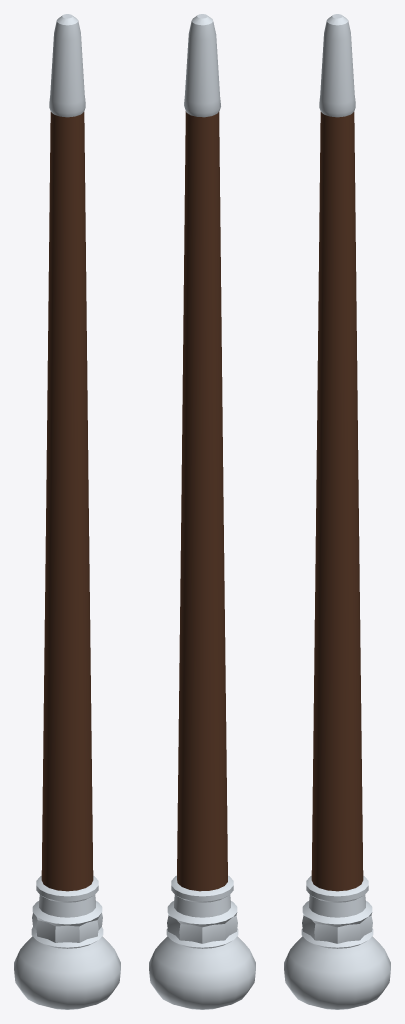
The model's file is Cane.fbx.
3 views of the same model, side by side, from view 1: azimuth 90°, elevation 25°; view 2: azimuth 150°, elevation 25°; view 3: azimuth 270°, elevation 25° (orthographic).
Parts seen in each view (by area): view 1: Cane_Wood, Cane_Silver; view 2: Cane_Wood, Cane_Silver; view 3: Cane_Wood, Cane_Silver.
Part boxes in pixels (x1,y1,x2,y2): Cane_Wood: (41,112,93,891); Cane_Silver: (14,14,120,1009); Cane_Wood: (177,111,227,891); Cane_Silver: (149,14,255,1009); Cane_Wood: (311,112,363,891); Cane_Silver: (284,14,390,1009).
Bounding box in the file's own units: 0.44 × 4.4 × 0.4333.
